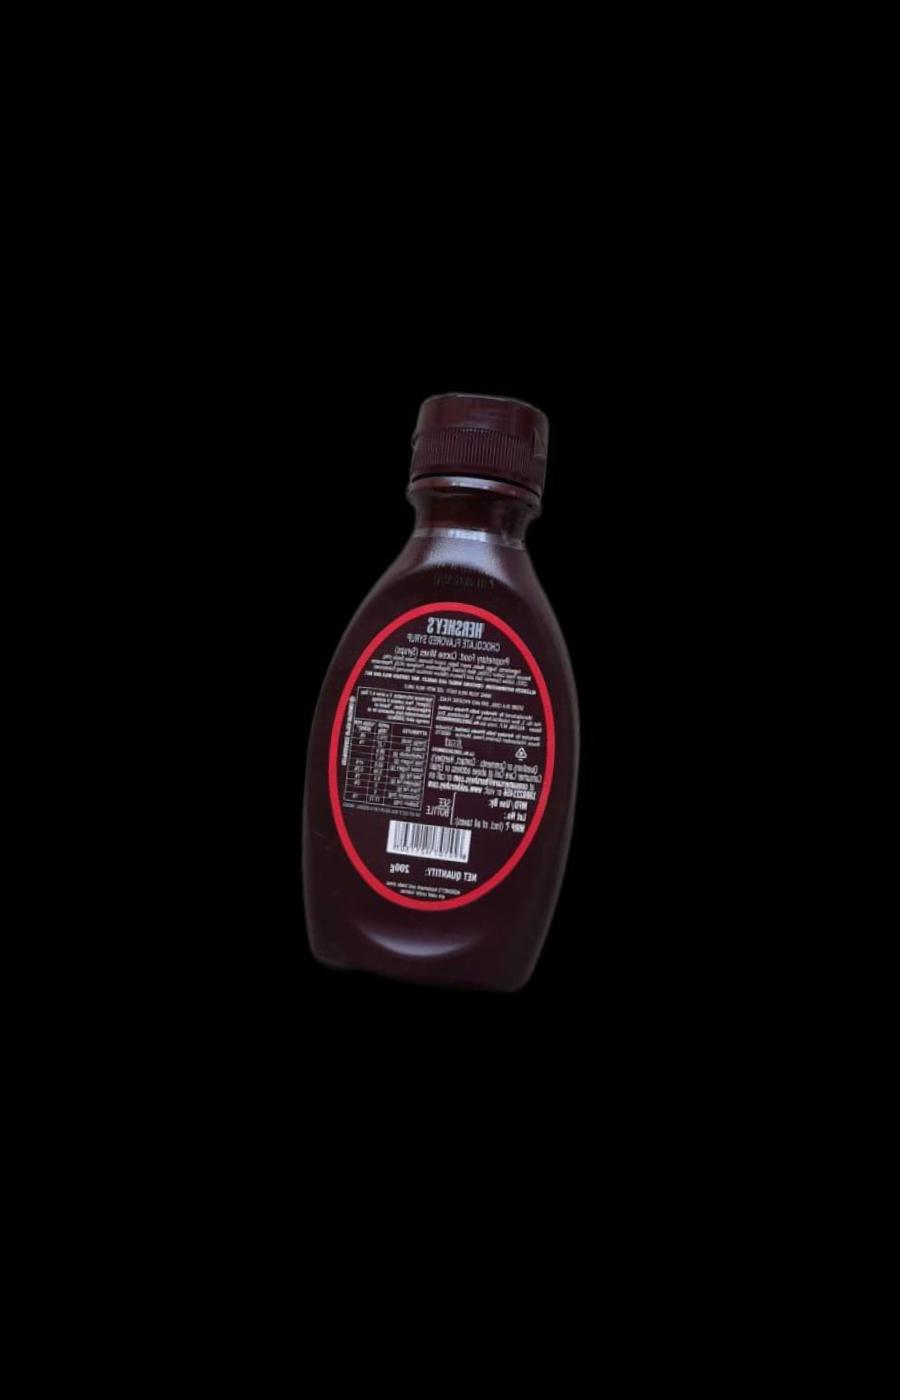HERSHEY-S Chocolate Flavored Syrup 200g: (274, 371, 611, 1007)
